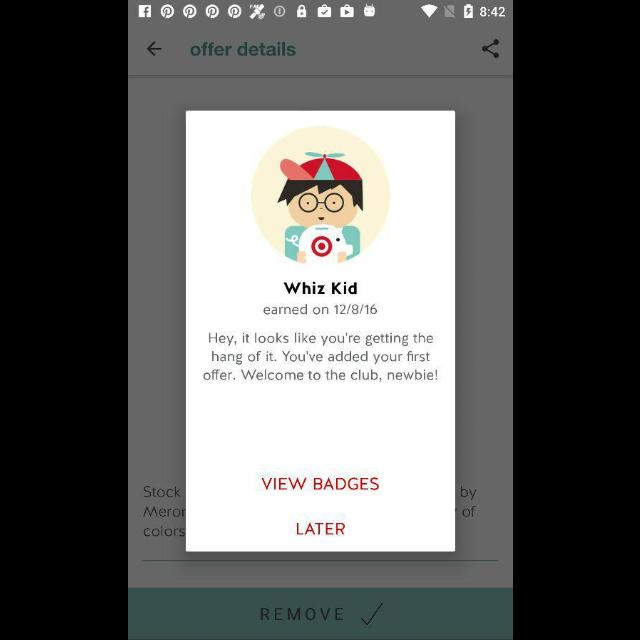icon: (482, 40, 498, 59), (147, 42, 161, 56)
image: (250, 126, 390, 264)
panel: (186, 111, 454, 551)
text: (203, 332, 437, 382), (190, 42, 296, 56), (262, 478, 378, 490), (263, 304, 377, 316), (283, 282, 357, 294), (296, 522, 344, 534)
textbutton: (128, 588, 512, 640)
uppertaskbar: (128, 1, 512, 23)
